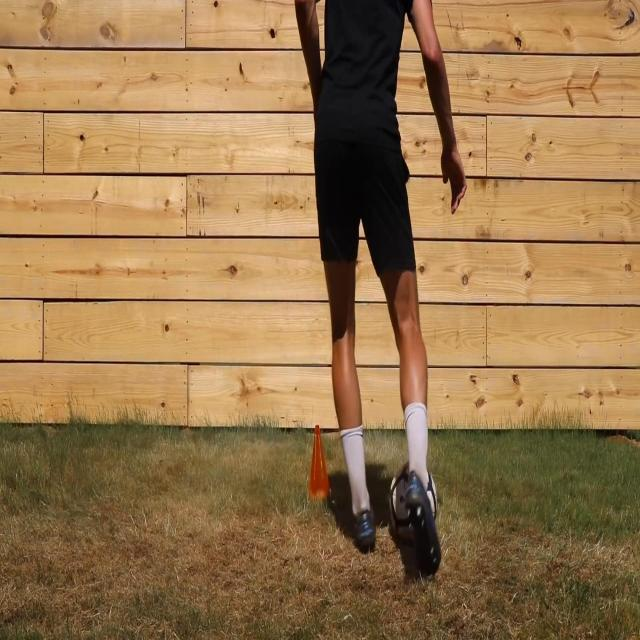Soccer Ball: (388, 456, 437, 548)
